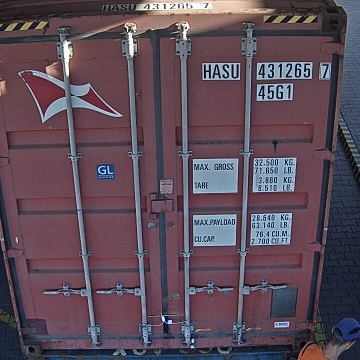serial_id: (203, 63, 330, 79)
